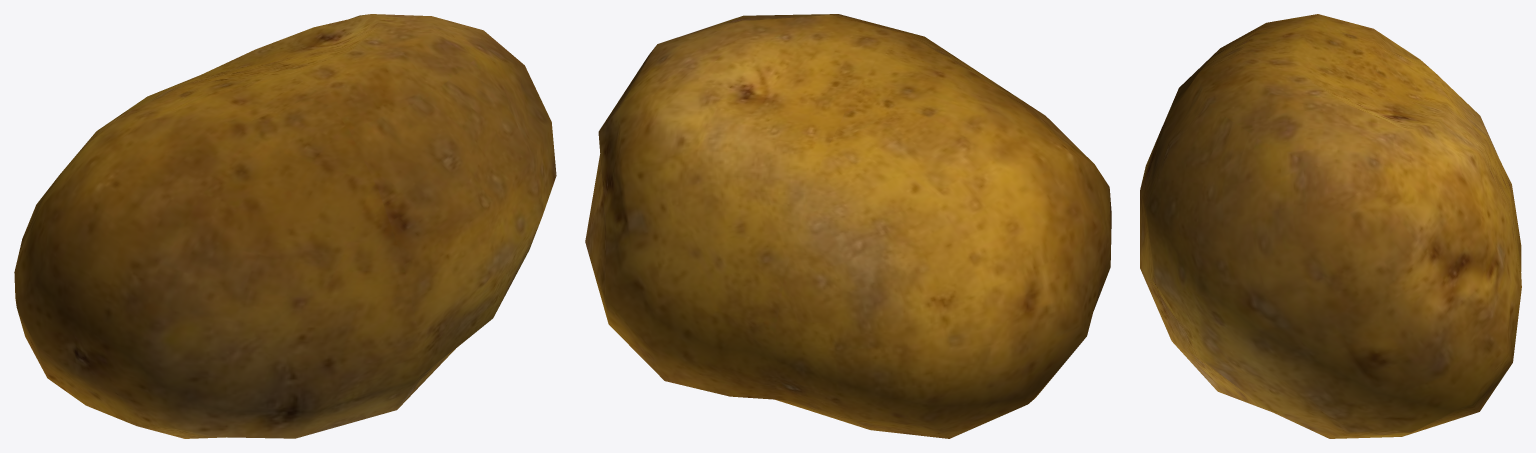
File: A75_Potato_low.fbx
3 renders of one model, left to right at view 1: azimuth 30°, elevation 25°; view 2: azimuth 150°, elevation 25°; view 3: azimuth 270°, elevation 25°, orthographic. The views are drawn at different scales.
Visible parts, largest first — view 1: A75_Potato_low; view 2: A75_Potato_low; view 3: A75_Potato_low.
Part boxes in pixels (x1=…): A75_Potato_low: x1=14, y1=14, x2=556, y2=438; A75_Potato_low: x1=585, y1=14, x2=1111, y2=438; A75_Potato_low: x1=1140, y1=14, x2=1521, y2=438.
Size of the model in its own units: 9.58 by 6.51 by 6.55.
Materials: 1 (1 with a texture image).
